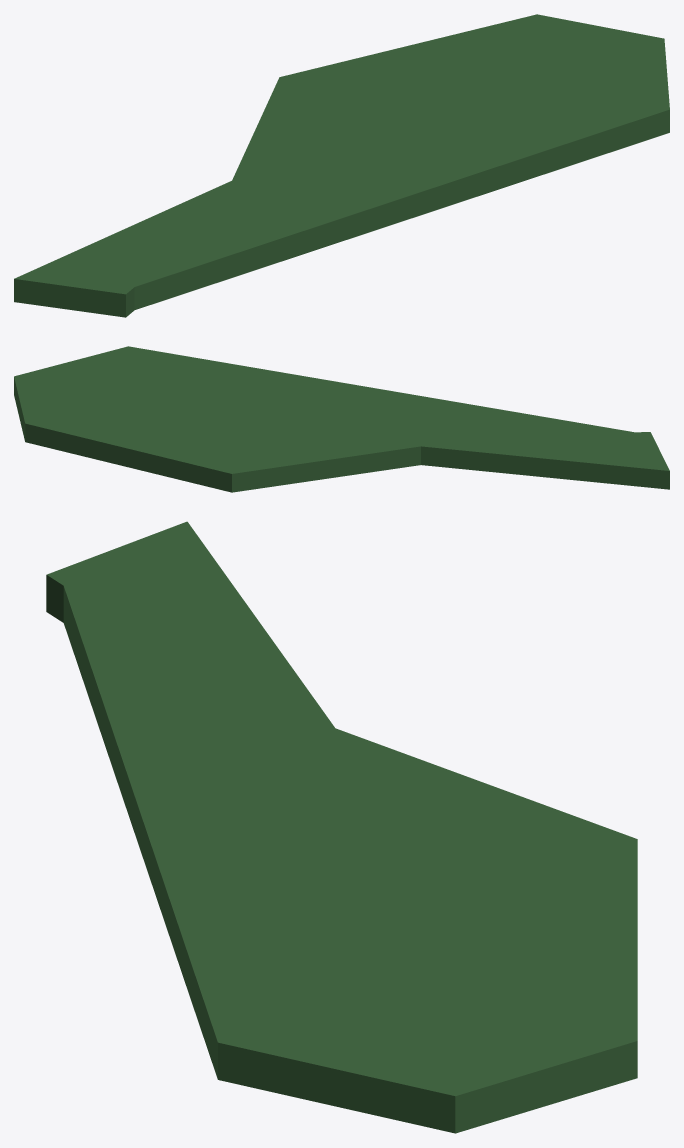
The model's file is x_proval_00_19_1_rmstrd.fbx.
The picture shows the model from 3 angles, top to bottom: view 1: azimuth 30°, elevation 25°; view 2: azimuth 150°, elevation 25°; view 3: azimuth 270°, elevation 25°; orthographic projection. The views are drawn at different scales.
Parts seen in each view (by area): view 1: x_proval_00_19_1_rmstrd1; view 2: x_proval_00_19_1_rmstrd1; view 3: x_proval_00_19_1_rmstrd1.
Part boxes in pixels (x1,y1,x2,y2): x_proval_00_19_1_rmstrd1: (14,14,669,317); x_proval_00_19_1_rmstrd1: (14,346,669,492); x_proval_00_19_1_rmstrd1: (46,521,637,1133).
Bounding box in the file's own units: 6.6 × 0.2 × 2.87.
